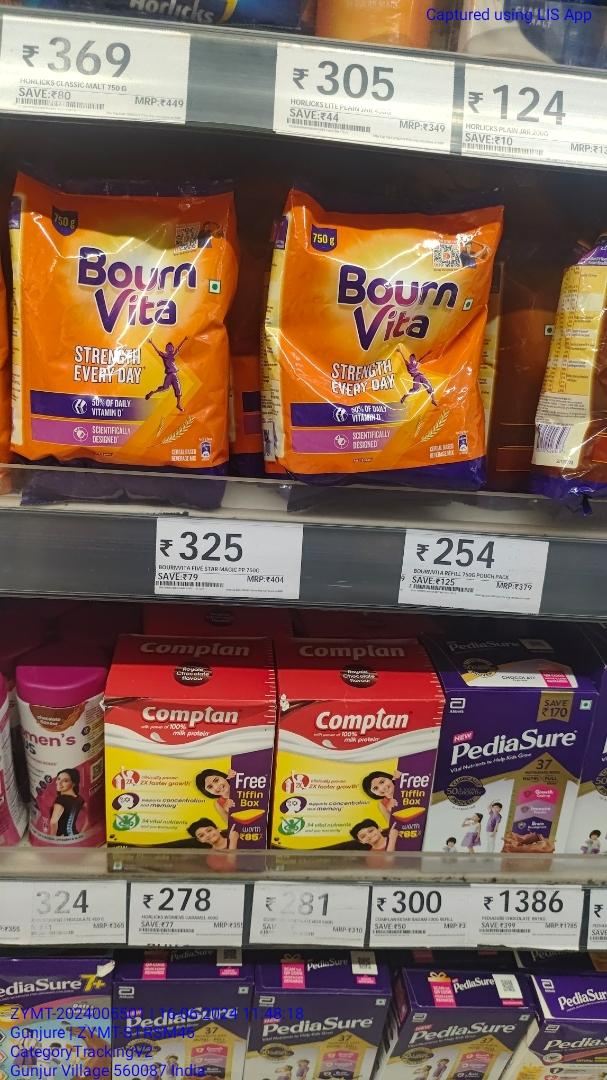BOURN_VITA_750_G_POUCH: (5, 148, 231, 469), (263, 180, 481, 483)
